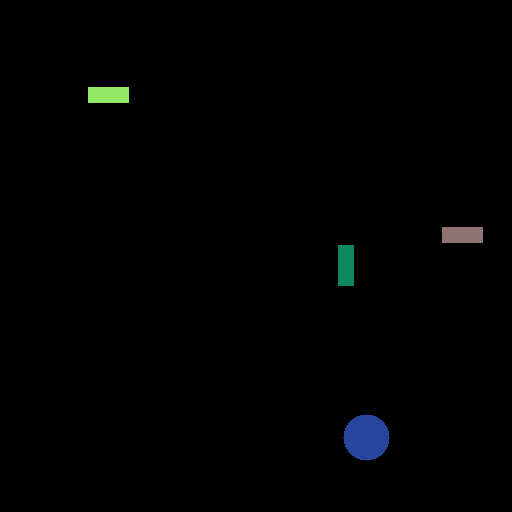circle: (339, 410, 391, 460)
side_rect: (85, 84, 131, 107), (441, 225, 485, 245)
up_rect: (336, 242, 356, 289)
